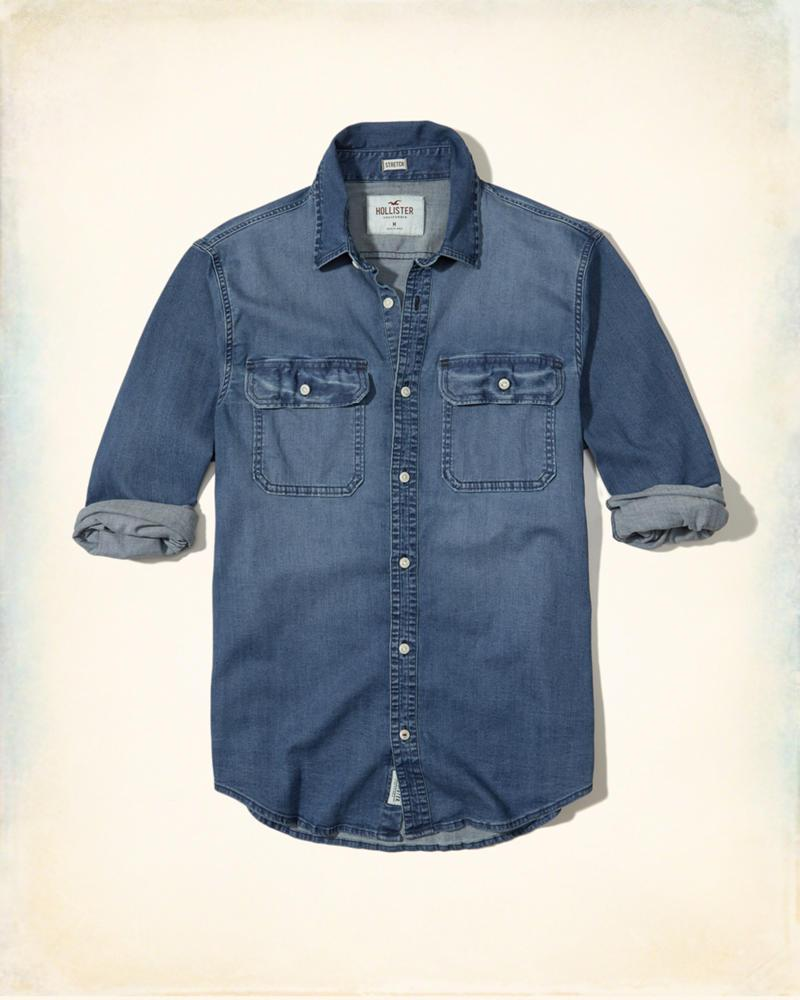teeshirt: (62, 107, 735, 883)
